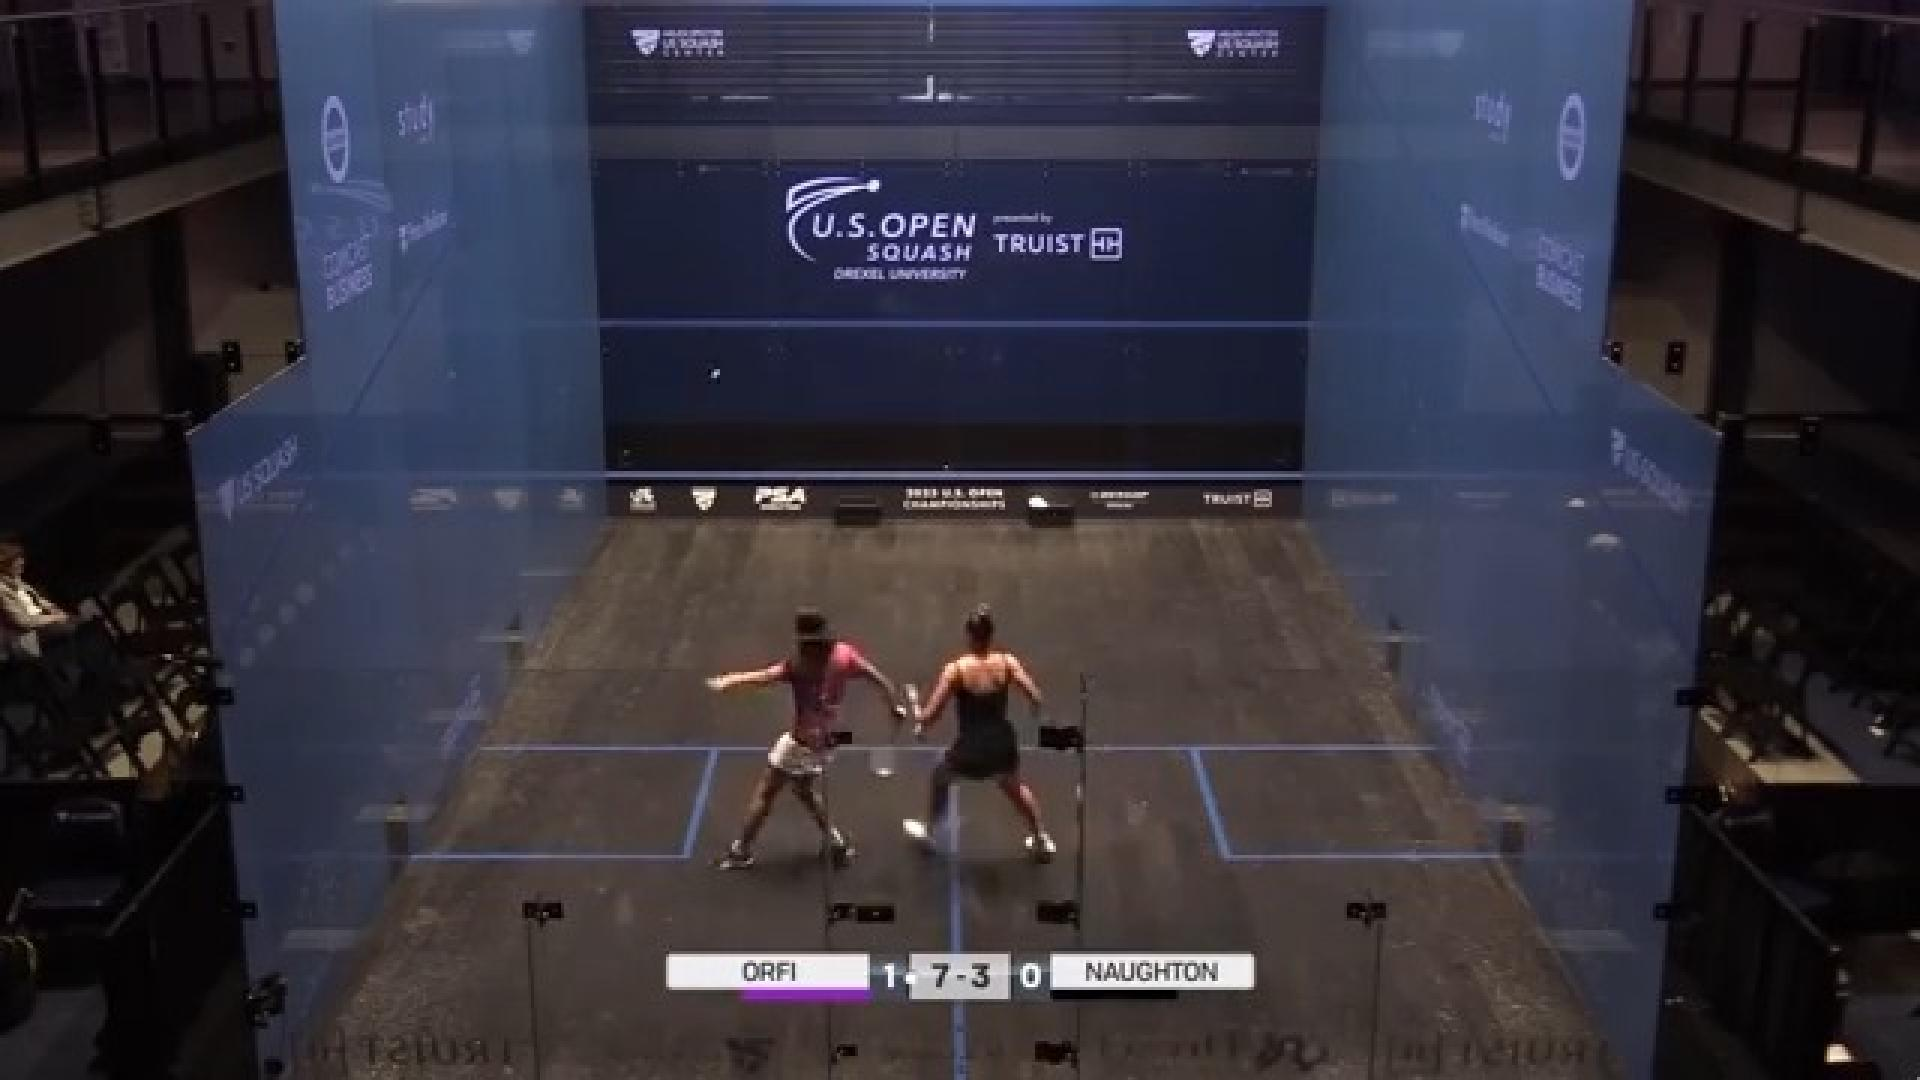Squash-Ball: (695, 357, 732, 393)
